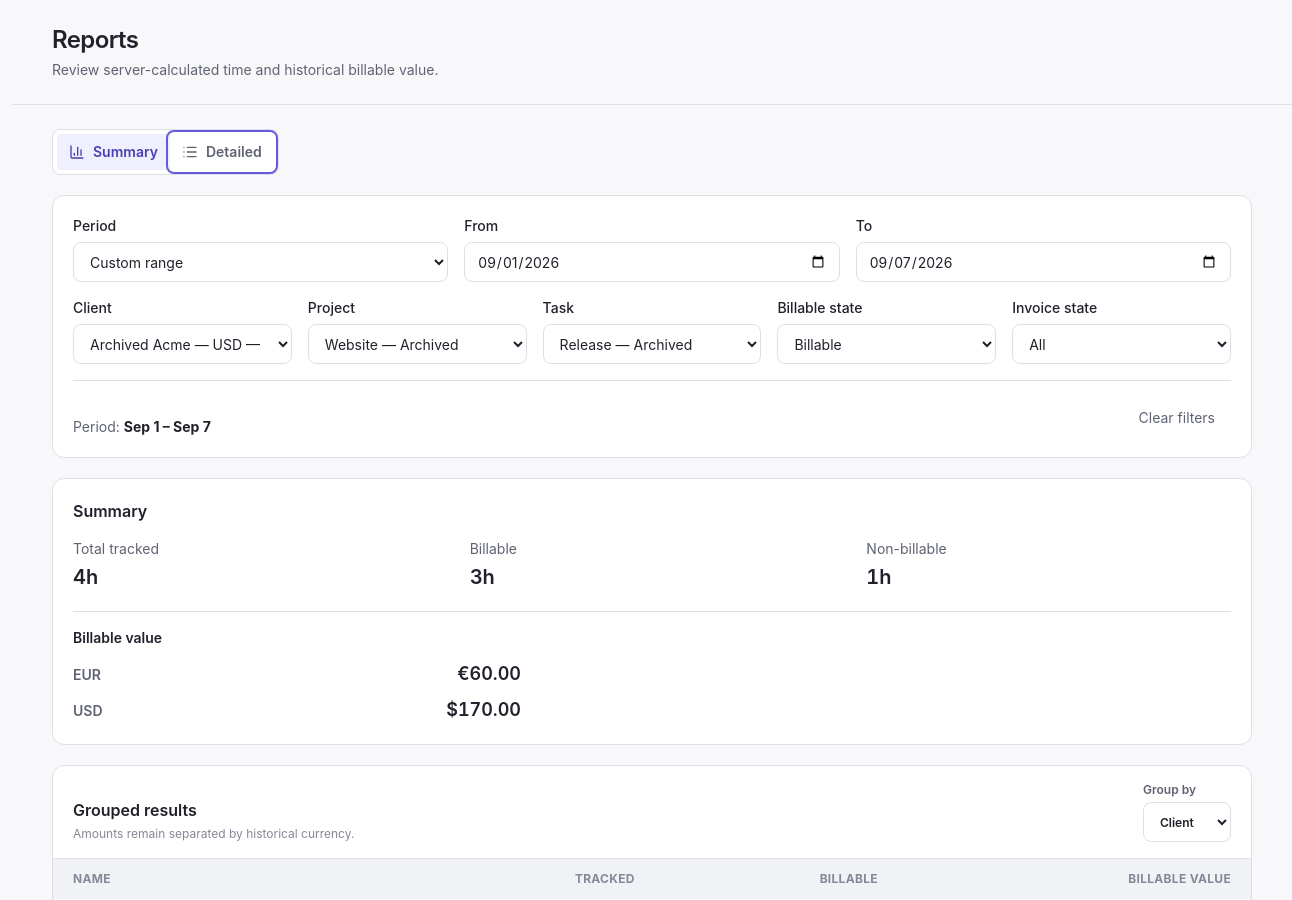
it: ReportsPage › preserves filter context between views and clears dependent hierarchy state
Expected: the heading "Summary" is shown, [73,501,147,521]
Press Enter
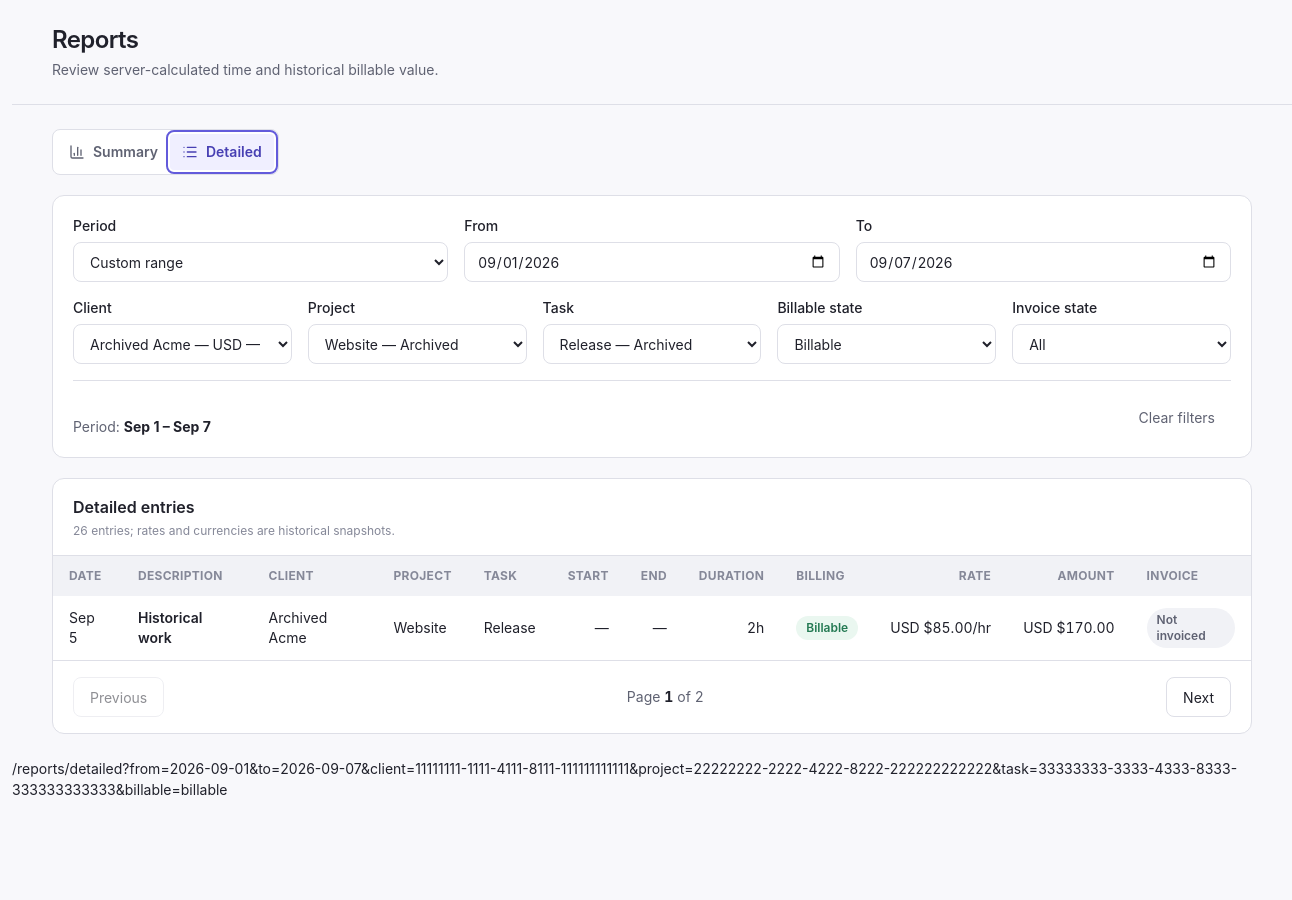
Now the heading "Detailed entries" is shown, box [73,497,195,517]
Select "Beta — EUR" in the dropdown labelled "Client". click: (182, 344)
box: [73,324,292,364]
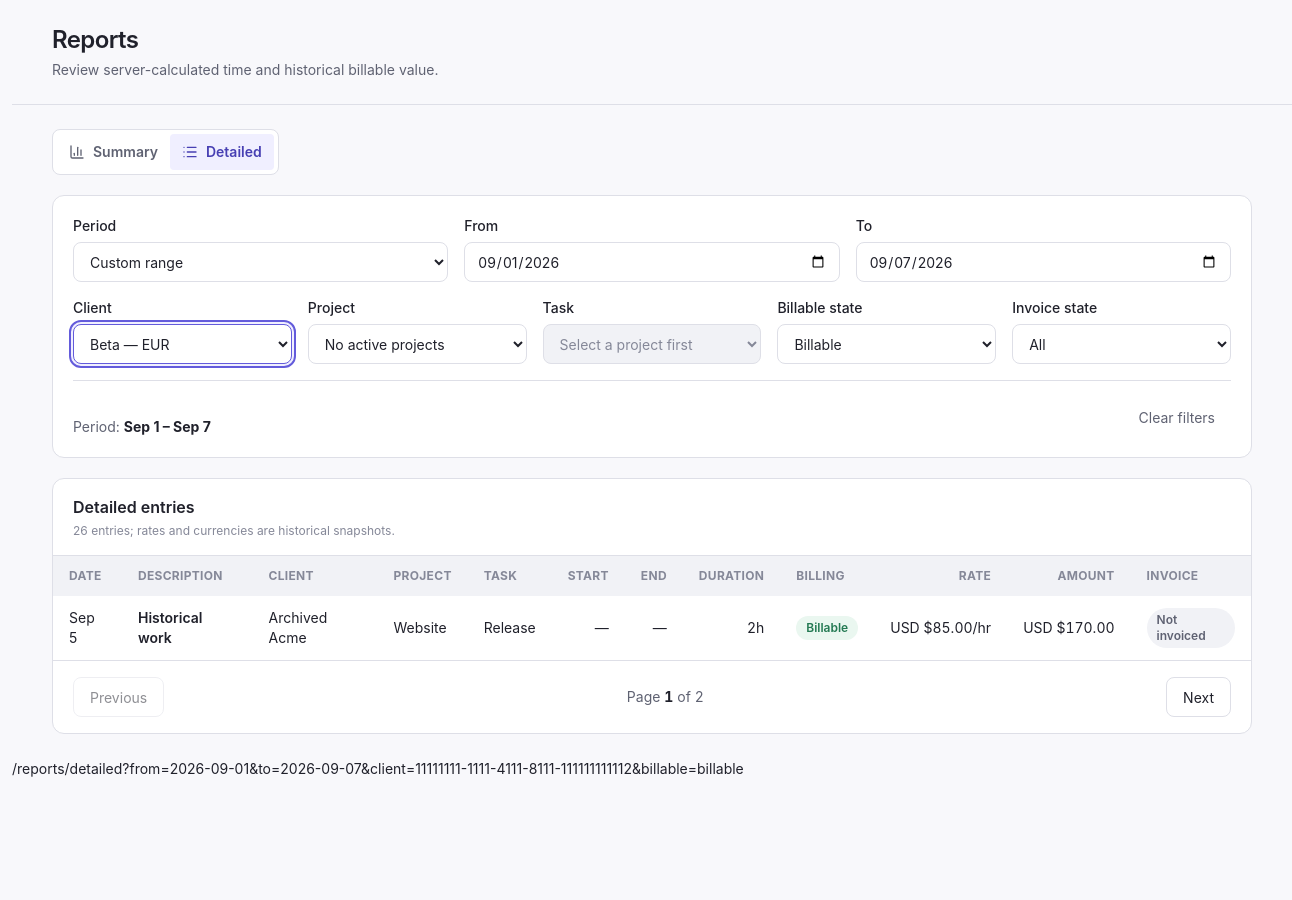
Now the text with test id "location" no longer shows "project="
Now the text with test id "location" no longer shows "task="
Click the button "Clear filters". click: (1177, 417)
box: [1123,397,1231,437]
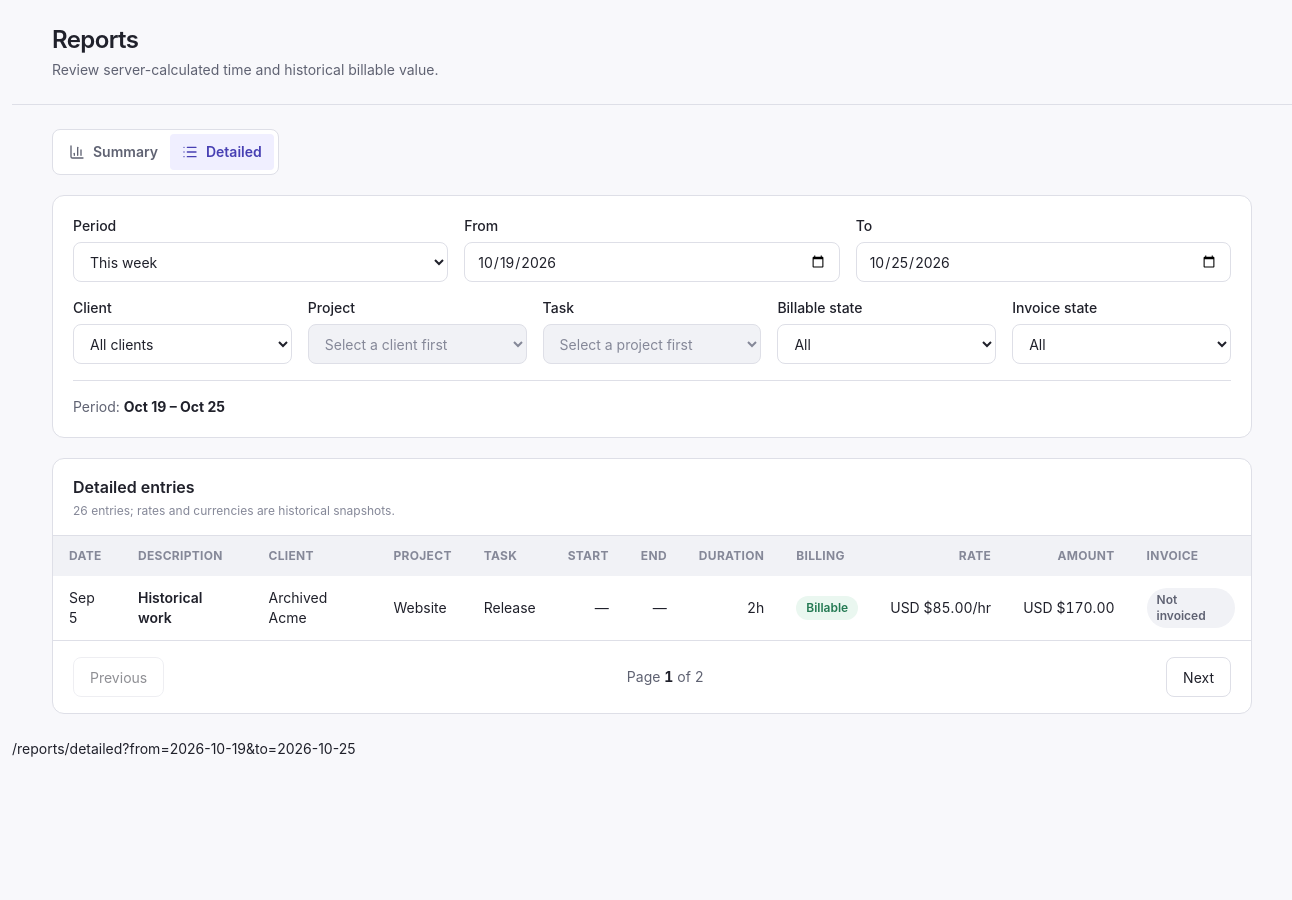
Now the text with test id "location" no longer shows "client="
